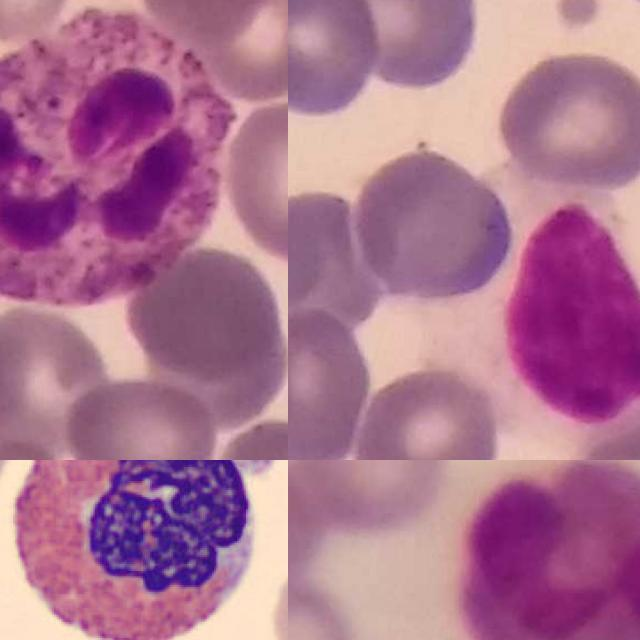Eosinophil: (0, 460, 269, 640), (461, 460, 640, 640)
Lymphocyte: (504, 191, 640, 430)
Neutrophil: (0, 8, 235, 307)
